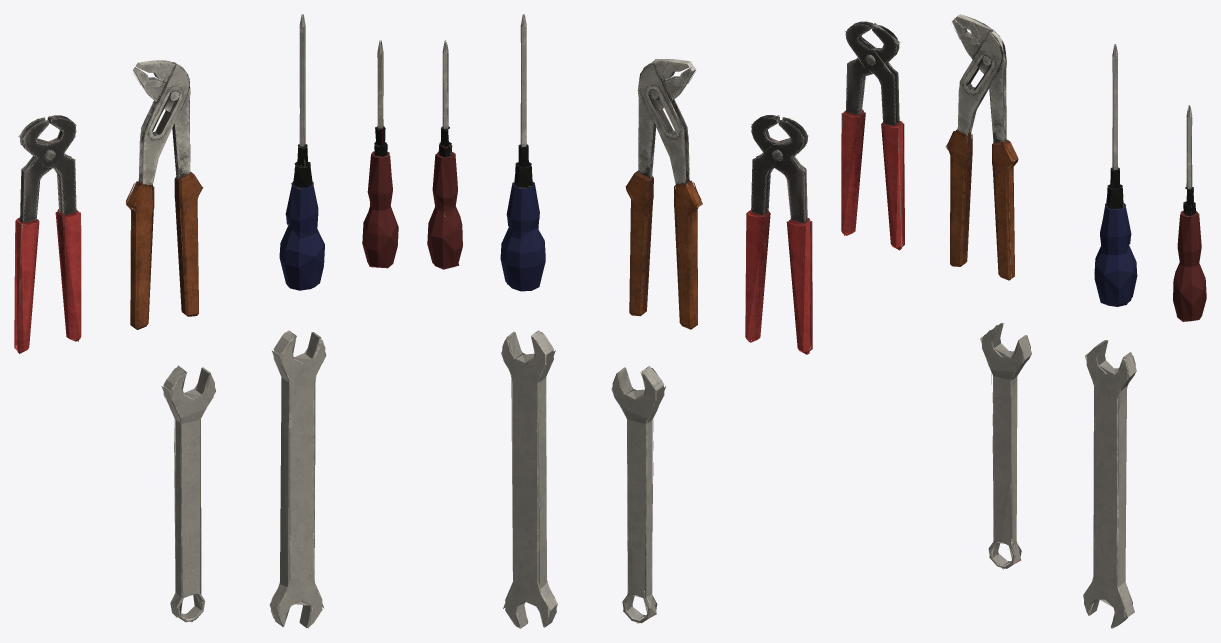
The model's file is hand_tools_b.glb.
The picture shows the model from 3 angles, left to right: view 1: azimuth 30°, elevation 25°; view 2: azimuth 150°, elevation 25°; view 3: azimuth 330°, elevation 25°; orthographic projection. The views are drawn at different scales.
Visible parts, largest first — view 1: hand_tools_b; view 2: hand_tools_b; view 3: hand_tools_b.
Part boxes in pixels (box(x1,y1,x2,y2)): hand_tools_b: box(14, 14, 398, 628); hand_tools_b: box(427, 14, 812, 628); hand_tools_b: box(841, 14, 1206, 628).
Size of the model in its own units: 0.3492 by 0.5353 by 0.0364.
Materials: 1 (1 with a texture image).
